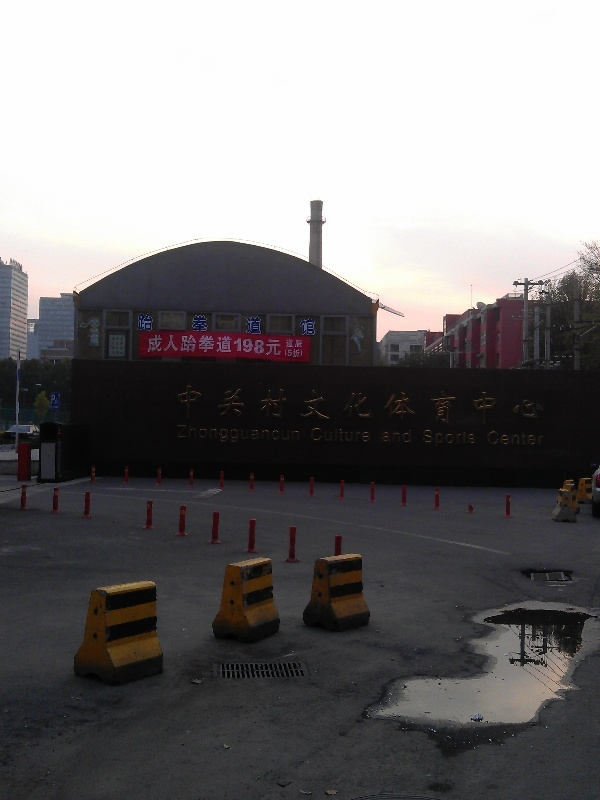text: (529, 385, 545, 425), (177, 385, 192, 425), (193, 385, 208, 425), (209, 385, 224, 425), (225, 385, 240, 425), (241, 385, 256, 425), (257, 385, 272, 425), (273, 385, 288, 425), (289, 385, 304, 425), (305, 385, 320, 425), (321, 385, 336, 425), (337, 385, 352, 425), (353, 385, 368, 425), (369, 385, 384, 425), (385, 385, 400, 425), (401, 385, 416, 425), (417, 385, 432, 425), (433, 385, 448, 425), (449, 385, 464, 425), (465, 385, 480, 425), (481, 385, 496, 425), (497, 385, 512, 425), (513, 385, 528, 425), (145, 312, 160, 337), (161, 312, 176, 337), (177, 312, 192, 337), (193, 312, 208, 337), (209, 312, 224, 337), (225, 312, 240, 337), (241, 312, 256, 337), (257, 312, 272, 337), (273, 312, 288, 337), (289, 312, 304, 337), (161, 334, 176, 357), (177, 334, 192, 357), (193, 334, 208, 357), (209, 334, 224, 357), (225, 334, 240, 357), (241, 334, 256, 357), (257, 334, 272, 357), (177, 425, 192, 445), (193, 425, 208, 445), (209, 425, 224, 445), (225, 425, 240, 445), (241, 425, 256, 445), (257, 425, 272, 445), (273, 425, 288, 445), (148, 334, 160, 357), (305, 312, 316, 337), (433, 430, 448, 448), (449, 430, 464, 448), (289, 425, 302, 445), (497, 431, 512, 447), (513, 431, 528, 447), (529, 431, 544, 447), (321, 428, 336, 443), (337, 428, 352, 443), (353, 428, 368, 443), (385, 430, 400, 445), (273, 334, 282, 357), (465, 430, 476, 448), (422, 430, 432, 448), (401, 430, 412, 445), (51, 394, 64, 406), (289, 339, 304, 349), (138, 312, 144, 337), (289, 349, 303, 359), (311, 428, 320, 443), (488, 431, 496, 447), (369, 428, 371, 443), (382, 430, 384, 445), (286, 339, 288, 349), (286, 349, 288, 359)
